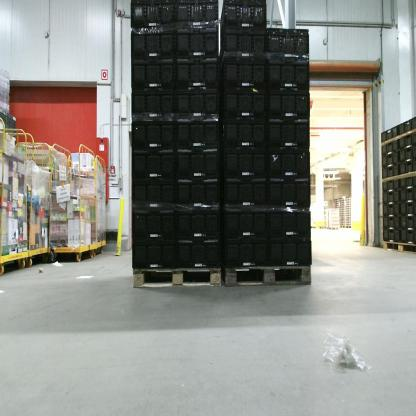pallet: (223, 255, 316, 299), (127, 257, 226, 285), (379, 239, 415, 255), (340, 225, 346, 230), (346, 224, 351, 229), (335, 227, 340, 231), (332, 226, 336, 231), (328, 226, 332, 231), (326, 225, 329, 230)
small_load_carrier: (218, 47, 266, 92), (173, 83, 220, 122), (217, 115, 269, 150), (220, 143, 269, 180), (217, 82, 268, 117), (218, 233, 269, 268), (129, 54, 178, 90), (174, 53, 220, 90), (219, 2, 269, 36), (129, 237, 178, 271), (221, 169, 267, 205), (220, 202, 267, 236), (174, 21, 219, 56), (265, 88, 314, 120), (264, 206, 316, 236), (129, 204, 176, 237), (128, 90, 178, 121), (215, 28, 267, 57), (174, 239, 221, 271), (269, 236, 316, 268), (265, 57, 313, 88), (176, 207, 221, 240), (175, 145, 221, 177), (266, 120, 314, 150), (178, 176, 221, 209), (267, 27, 313, 57), (176, 114, 219, 146), (264, 177, 310, 206), (128, 121, 173, 150), (129, 27, 176, 54), (129, 0, 176, 27), (130, 150, 173, 179), (132, 177, 176, 204), (266, 150, 310, 177), (177, 1, 222, 26), (380, 125, 399, 145), (381, 136, 398, 158), (399, 126, 415, 148), (381, 161, 399, 180), (398, 117, 415, 137), (381, 150, 399, 168), (399, 143, 415, 163), (380, 174, 400, 190), (397, 158, 415, 175), (399, 199, 416, 217), (382, 228, 402, 242), (399, 186, 415, 203), (399, 213, 415, 230), (399, 228, 415, 245), (381, 203, 401, 216), (381, 190, 400, 203), (382, 216, 401, 228), (399, 174, 415, 188)
